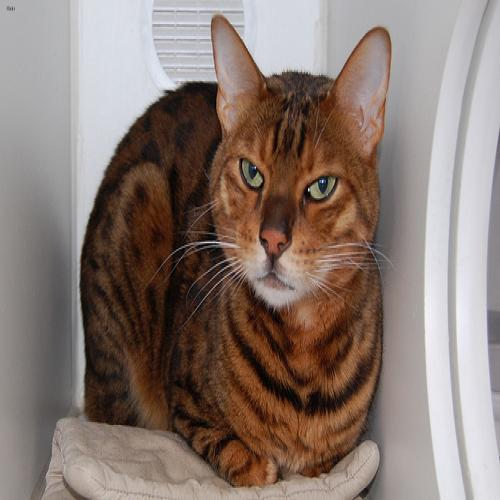bengal: (209, 14, 390, 318)
